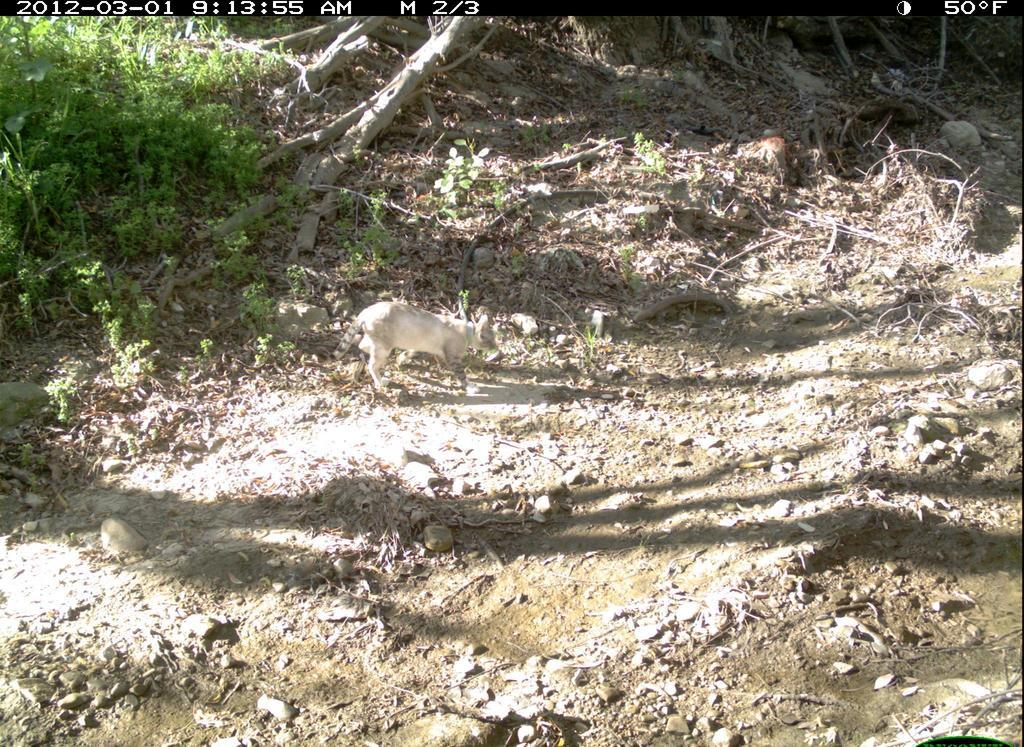cat: (313, 300, 506, 404)
